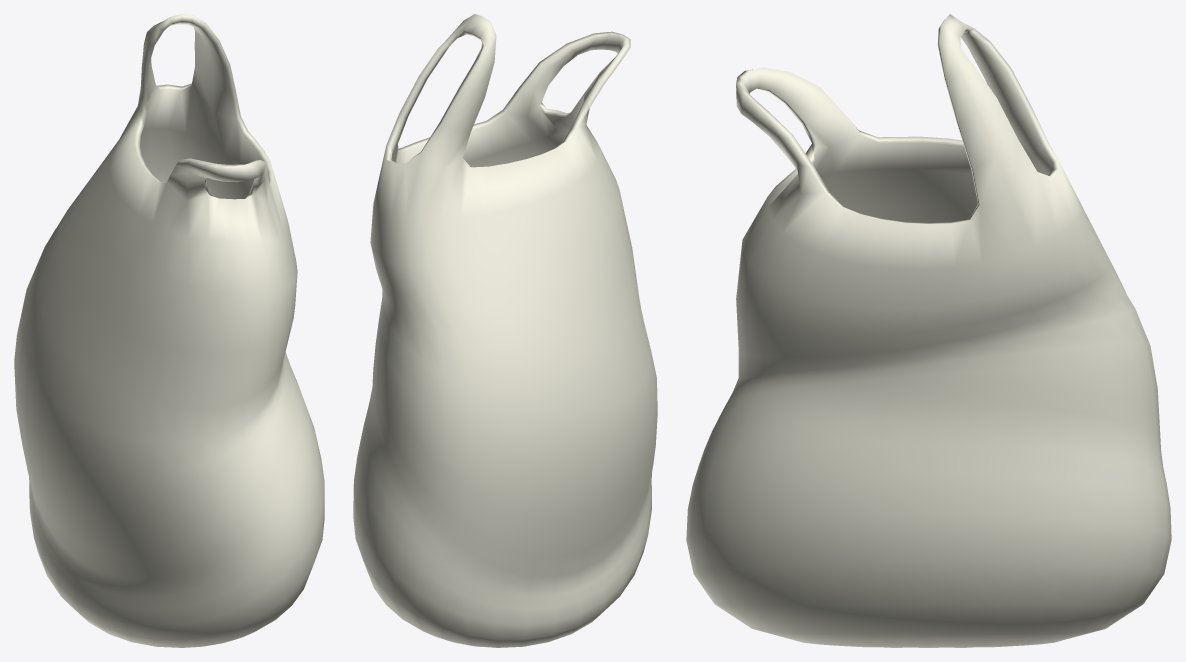
The model's file is BolsaPlastico_04.fbx.
3 renders of one model, left to right at view 1: azimuth 30°, elevation 25°; view 2: azimuth 150°, elevation 25°; view 3: azimuth 270°, elevation 25°, orthographic. The views are drawn at different scales.
Visible parts, largest first — view 1: BolsaPlastico_04; view 2: BolsaPlastico_04; view 3: BolsaPlastico_04.
Part boxes in pixels (bbox=[...]): BolsaPlastico_04: bbox=[14, 14, 324, 647]; BolsaPlastico_04: bbox=[353, 14, 657, 647]; BolsaPlastico_04: bbox=[686, 14, 1171, 647].
Size of the model in its own units: 32.39 by 81.2 by 54.54.
